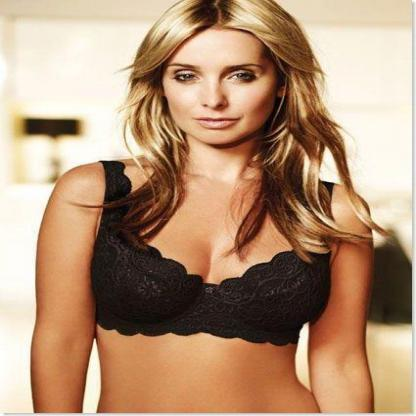long-hair: (127, 145, 350, 190)
